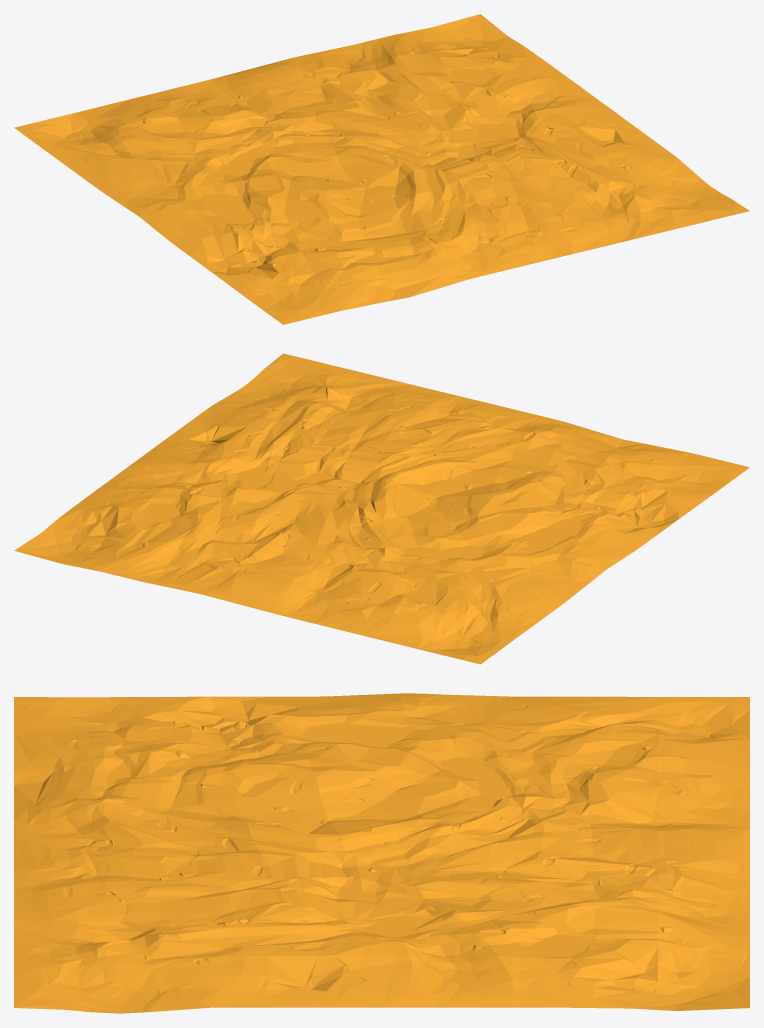
Rendered from SM_Battleground_Mud_B_Fantasy.fbx.
3 views of the same model, one above another, from view 1: azimuth 30°, elevation 25°; view 2: azimuth 150°, elevation 25°; view 3: azimuth 270°, elevation 25° (orthographic). The views are drawn at different scales.
Visible parts, largest first — view 1: battleground-mud-ground-b-fantasy, battleground-mud-water-b-fantasy; view 2: battleground-mud-ground-b-fantasy, battleground-mud-water-b-fantasy; view 3: battleground-mud-ground-b-fantasy, battleground-mud-water-b-fantasy.
Part boxes in pixels (x1,y1,x2,y2): battleground-mud-ground-b-fantasy: (14,14,749,324); battleground-mud-water-b-fantasy: (201,68,519,262); battleground-mud-ground-b-fantasy: (14,353,749,664); battleground-mud-water-b-fantasy: (142,450,598,559); battleground-mud-ground-b-fantasy: (14,693,749,1013); battleground-mud-water-b-fantasy: (106,723,592,956).
Bounding box in the file's own units: 9 × 0.4247 × 9.
